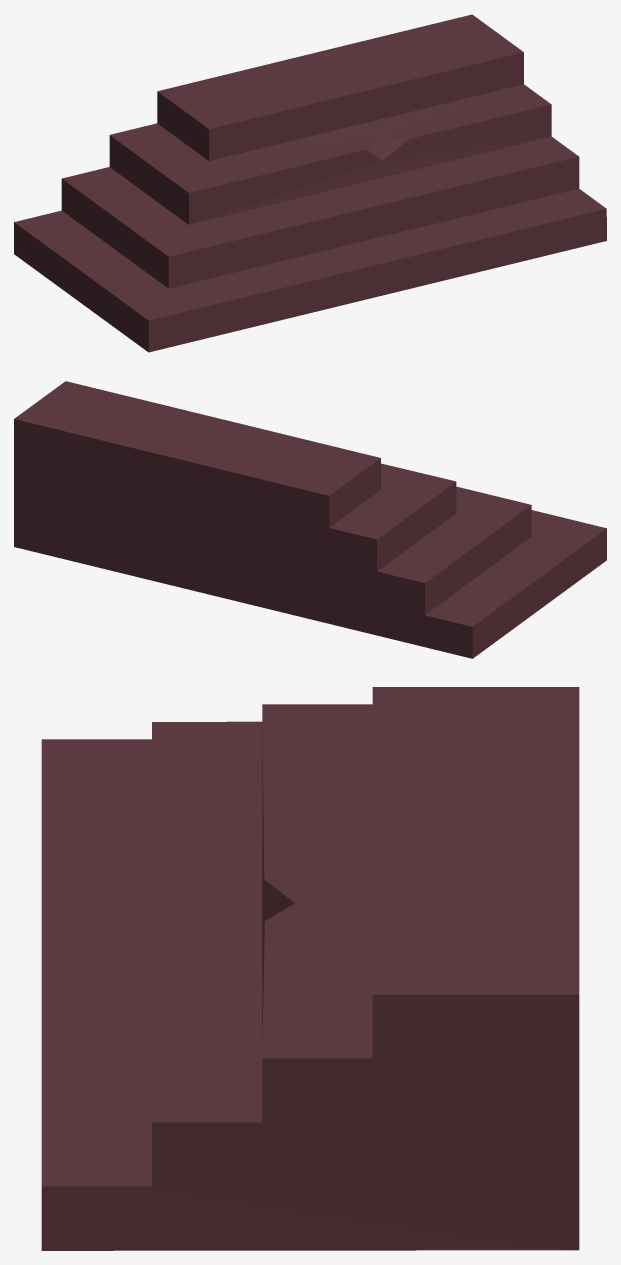
File: SM_Stairs_Corner_L_Small_Empire.fbx
3 views of the same model, one above another, from view 1: azimuth 30°, elevation 25°; view 2: azimuth 150°, elevation 25°; view 3: azimuth 270°, elevation 25° (orthographic). The views are drawn at different scales.
Visible parts, largest first — view 1: SM_Stairs_Corner_L_Small_Empire; view 2: SM_Stairs_Corner_L_Small_Empire; view 3: SM_Stairs_Corner_L_Small_Empire.
Part boxes in pixels (<box>): SM_Stairs_Corner_L_Small_Empire: <box>14,14,606,352</box>; SM_Stairs_Corner_L_Small_Empire: <box>14,381,606,658</box>; SM_Stairs_Corner_L_Small_Empire: <box>41,687,579,1250</box>.
Size of the model in its own units: 3 by 0.8012 by 1.52.
